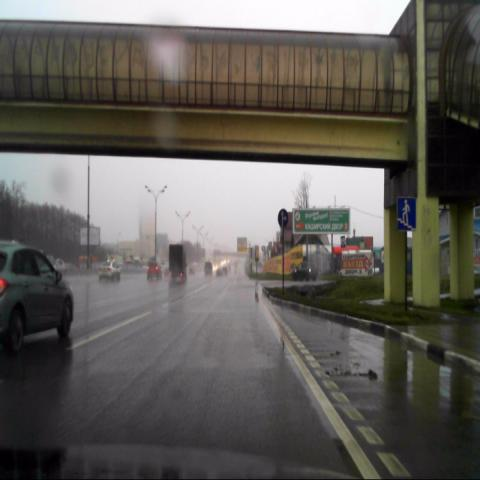6_7: (396, 197, 416, 230)
